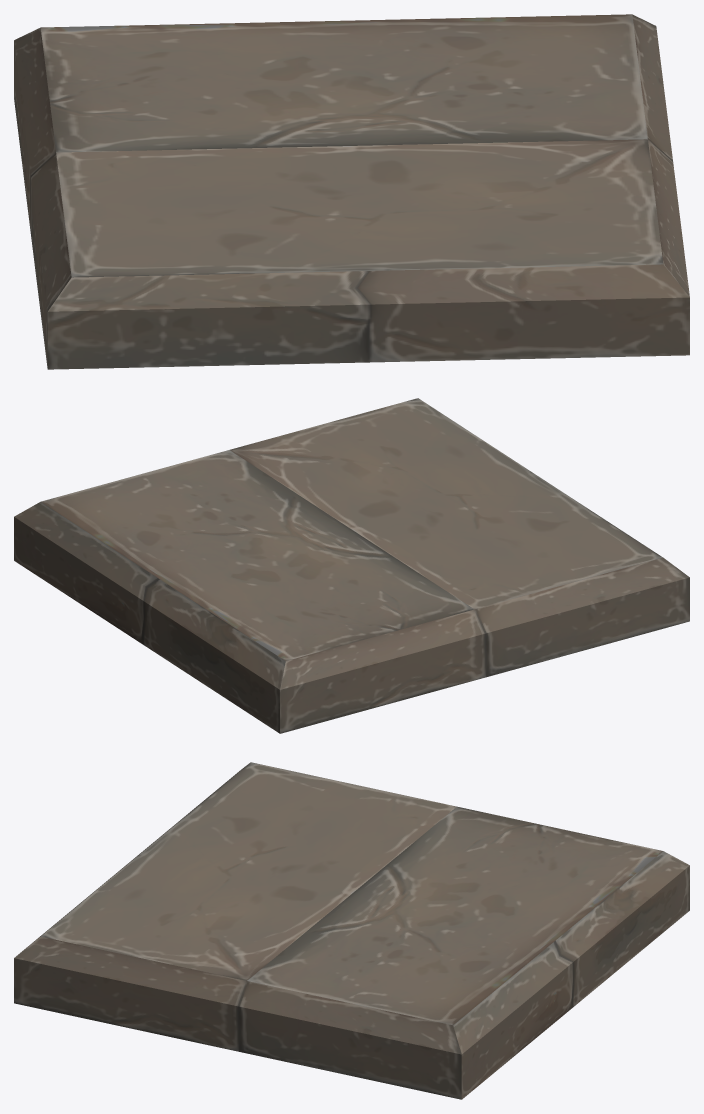
The model's file is Ruins_PillarBase_Intact_01a.fbx.
The picture shows the model from 3 angles, top to bottom: view 1: azimuth 30°, elevation 25°; view 2: azimuth 150°, elevation 25°; view 3: azimuth 270°, elevation 25°; orthographic projection. The views are drawn at different scales.
Visible parts, largest first — view 1: Ruins_PillarBase_Intact_01a; view 2: Ruins_PillarBase_Intact_01a; view 3: Ruins_PillarBase_Intact_01a.
Part boxes in pixels (x1,y1,x2,y2): Ruins_PillarBase_Intact_01a: (14, 14, 689, 369); Ruins_PillarBase_Intact_01a: (14, 398, 689, 733); Ruins_PillarBase_Intact_01a: (14, 762, 689, 1099).
Bounding box in the file's own units: 5.25 × 0.541 × 5.25.
1 material, 1 textured.
